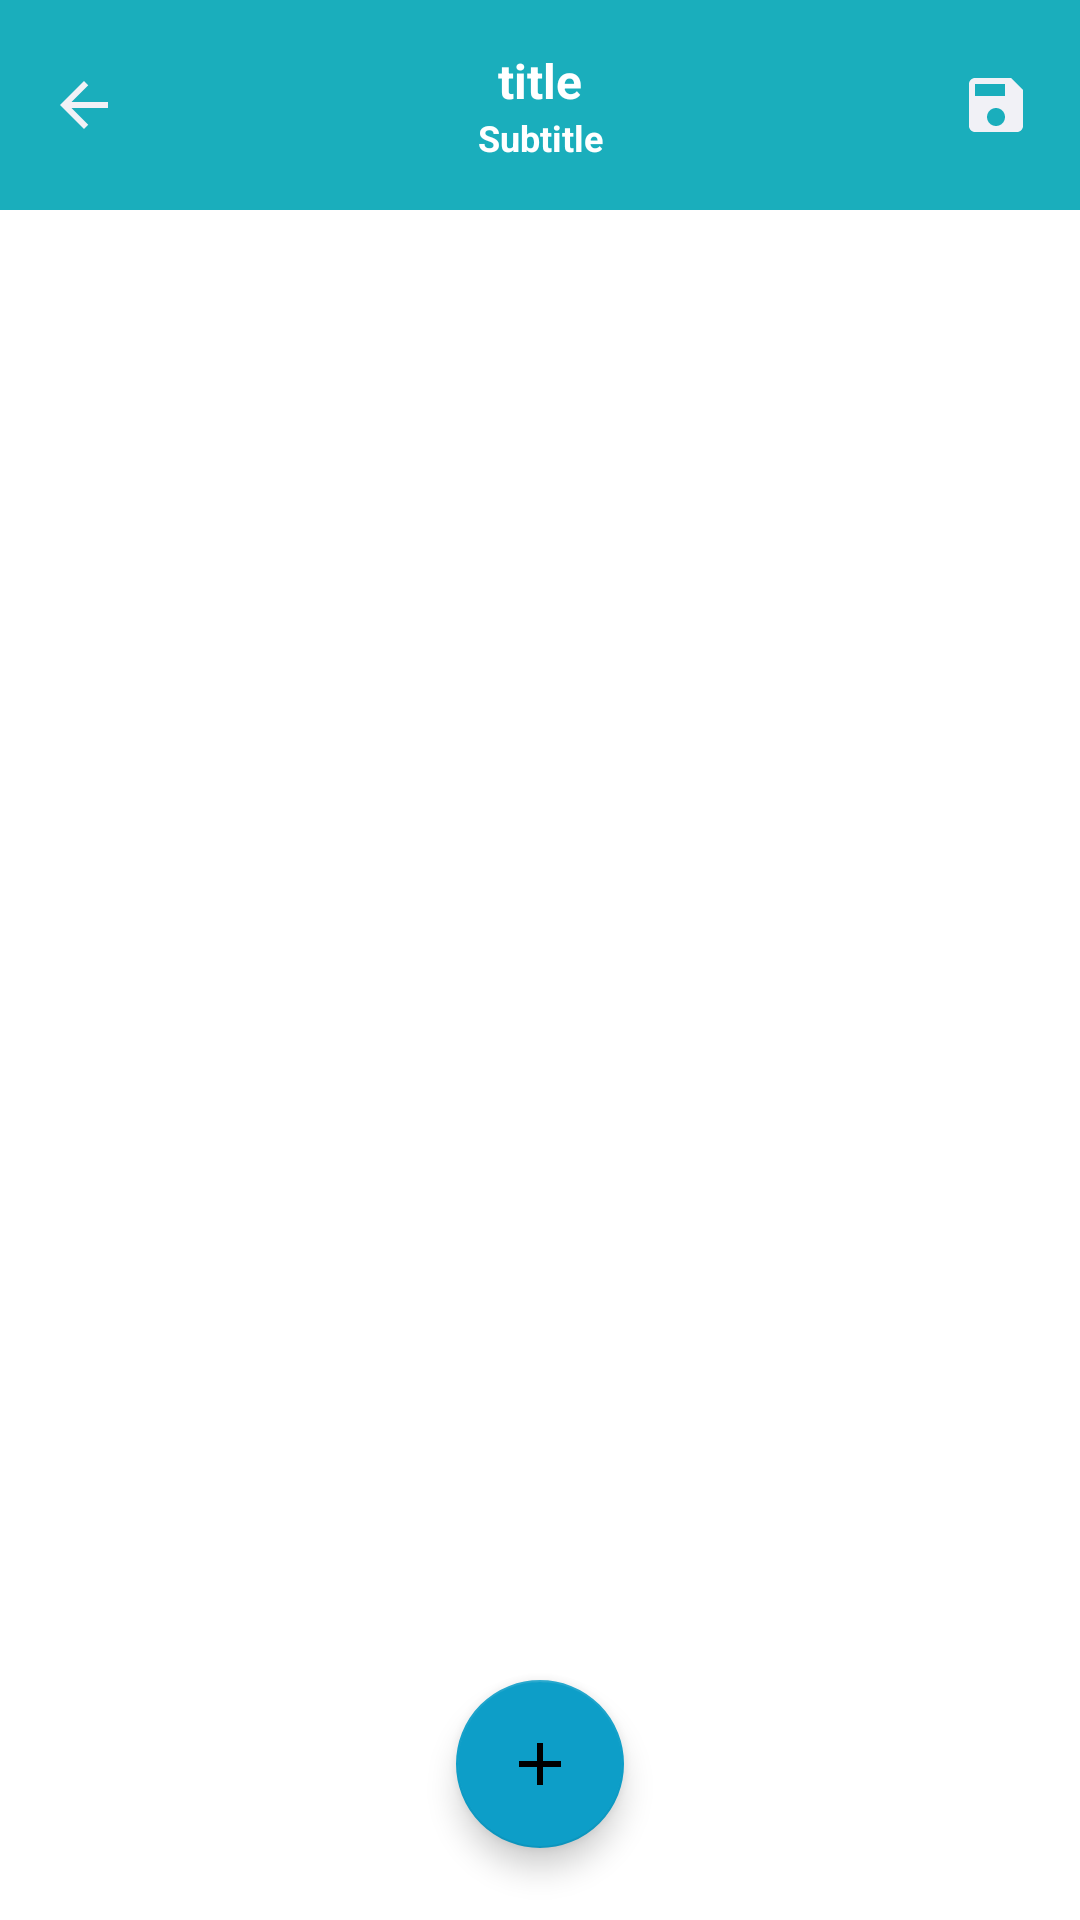

Locate icon controls on the screen. Image size 1080*1920, boxes as region(x1, y1, x2, y2).
add: region(456, 1680, 624, 1848)
back: region(60, 81, 108, 129)
save: region(969, 78, 1023, 132)
